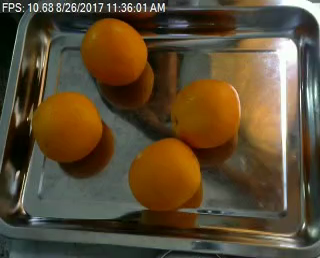Orange: (128, 138, 199, 211), (33, 91, 103, 162), (168, 78, 239, 147), (81, 17, 146, 84)
